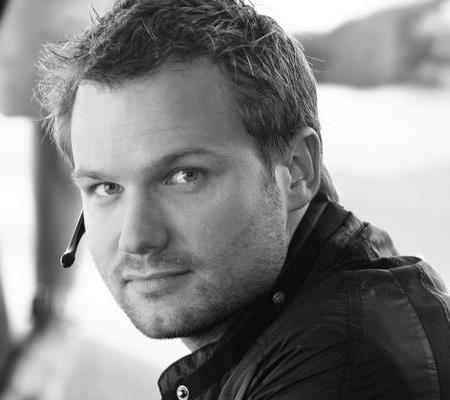No Mask: (20, 0, 390, 339)
